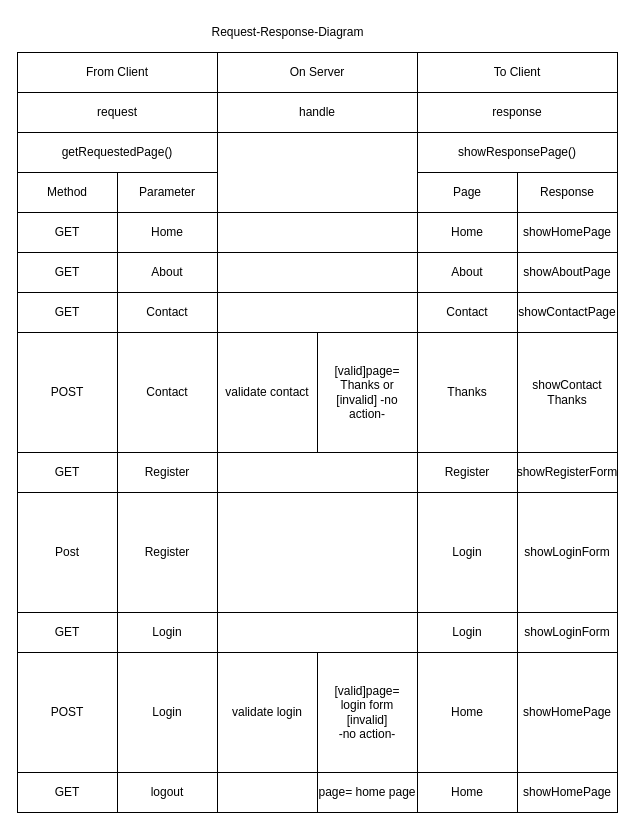
The diagram is 635 pixels wide and 830 high, and some of its shapes have lost their labels. Each missing label, with the box of its shape:
processRequest(): (216, 132, 418, 212)
validate register: (216, 492, 418, 612)
